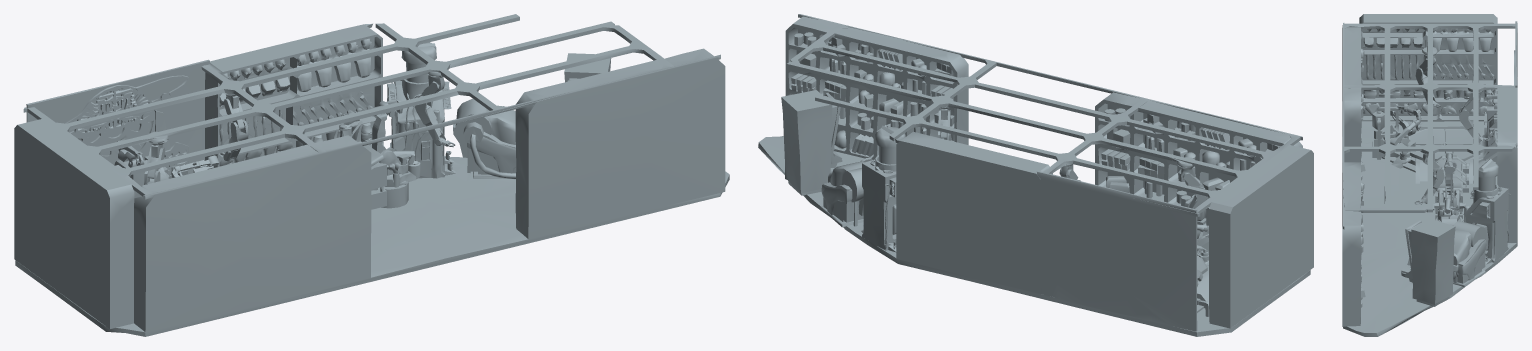
File: yoyodyne_robotics_mini_bot_factory__repair_bay.glb
The picture shows the model from 3 angles, left to right: view 1: azimuth 30°, elevation 25°; view 2: azimuth 150°, elevation 25°; view 3: azimuth 270°, elevation 25°; orthographic projection. The views are drawn at different scales.
Visible parts, largest first — view 1: skfb_offset; view 2: skfb_offset; view 3: skfb_offset.
Part boxes in pixels (<box>): skfb_offset: <box>14,14,729,336</box>; skfb_offset: <box>758,14,1313,336</box>; skfb_offset: <box>1342,14,1517,336</box>.
Size of the model in its own units: 1297 by 287 by 437.
